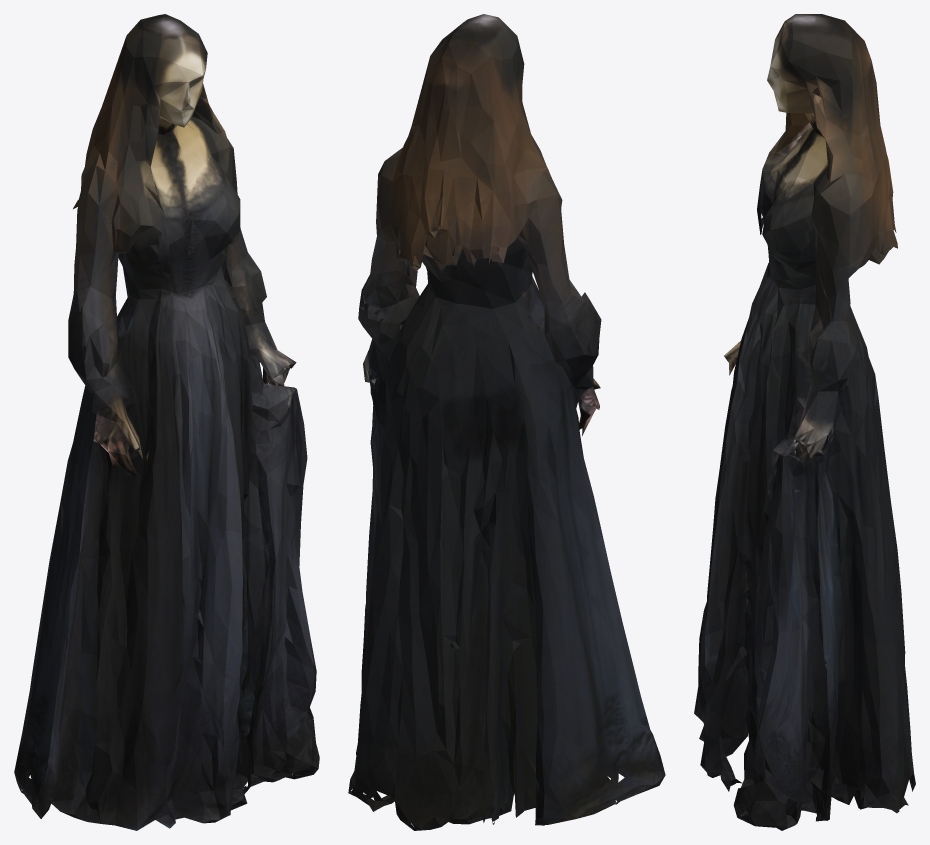
The model's file is fantasma_de_una_mujer_0420105057_texture.fbx.
The picture shows the model from 3 angles, left to right: view 1: azimuth 30°, elevation 25°; view 2: azimuth 150°, elevation 25°; view 3: azimuth 270°, elevation 25°; orthographic projection.
Visible parts, largest first — view 1: temp; view 2: temp; view 3: temp.
Part boxes in pixels (x1=…): temp: x1=14, y1=14, x2=319, y2=830; temp: x1=348, y1=14, x2=665, y2=830; temp: x1=694, y1=14, x2=915, y2=830.
Bounding box in the file's own units: 75.3 × 199 × 52.22.
Materials: 1 (1 with a texture image).
